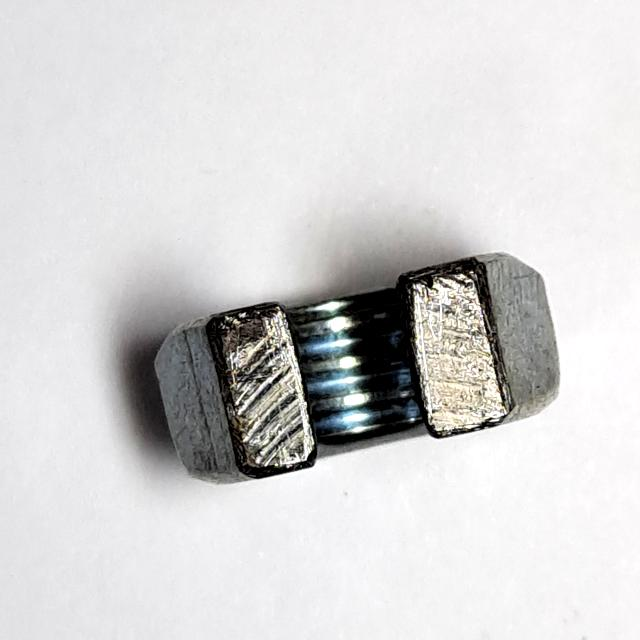Side-Fracture: (139, 233, 574, 499)
